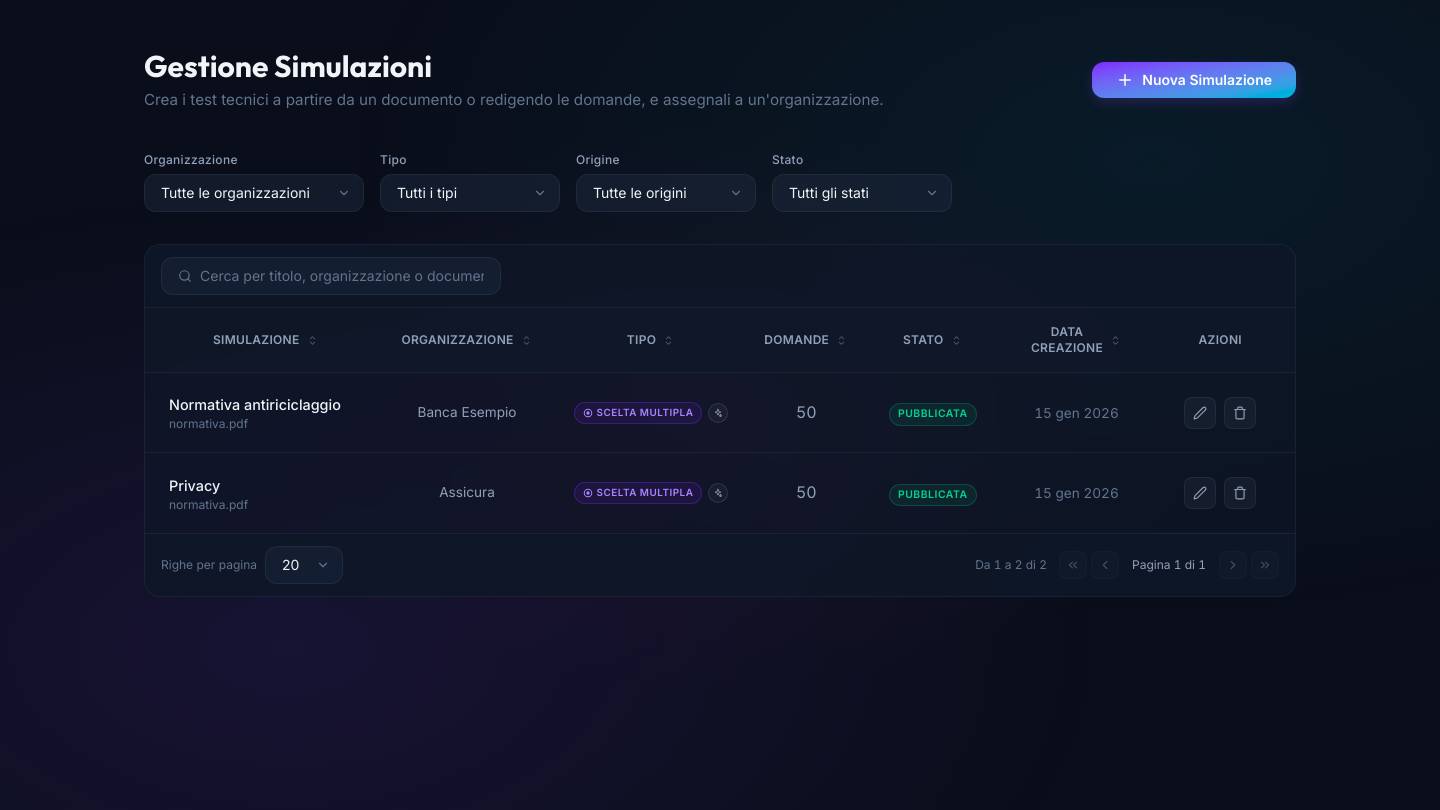
Scenario: elenco › restringe all'organizzazione scelta
Click the dropdown named "Organizzazione" at x=254, y=193, box [144,174,364,212]
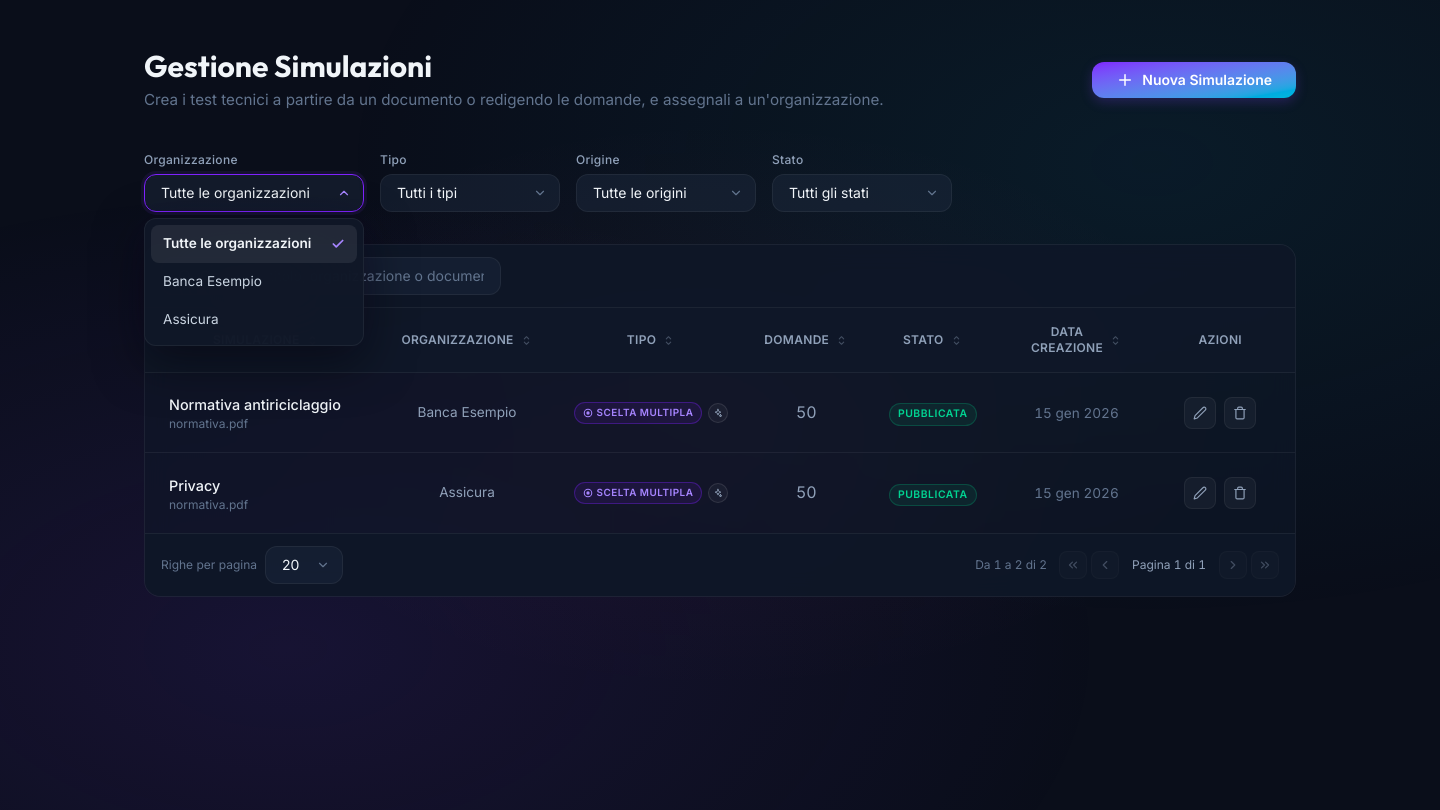
Click the option "Assicura" at x=191, y=319, box [163,311,219,327]
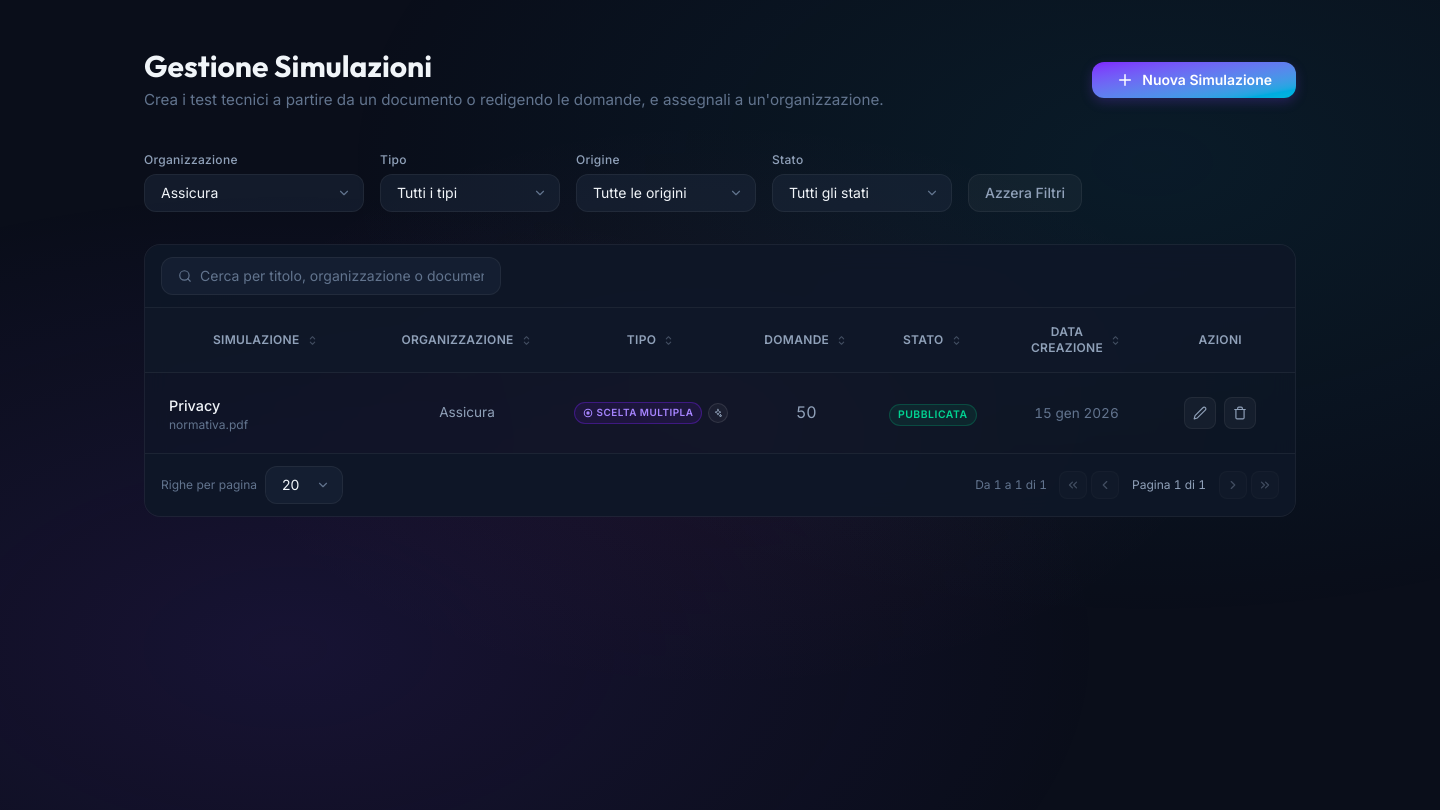
expect the text "Privacy" is shown: met, box [169,396,220,414]
expect the text "Normativa antiriciclaggio" is gone: met
